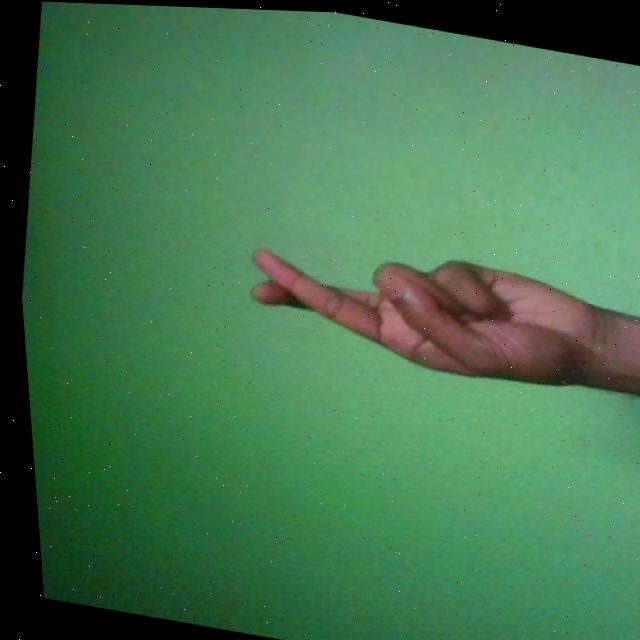Good Luck: (233, 221, 608, 397)
